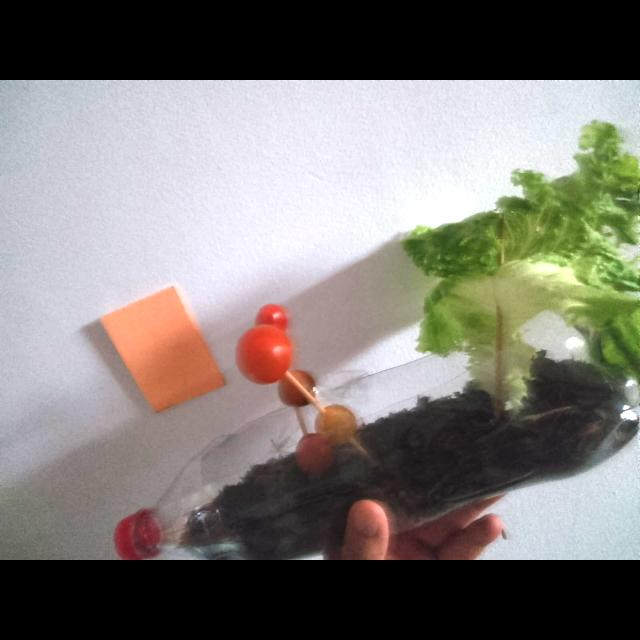card: (101, 287, 226, 411)
fruit_maturation: (315, 405, 357, 445)
fully_grown: (236, 305, 292, 384), (278, 377, 307, 407), (291, 370, 315, 392)
